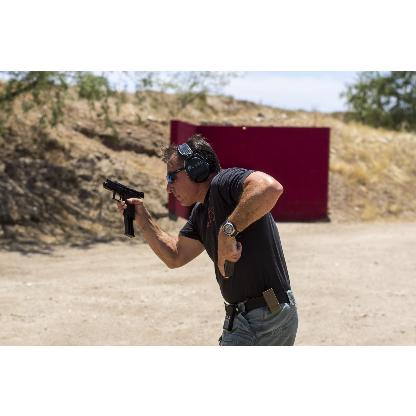gun: (99, 178, 145, 236)
